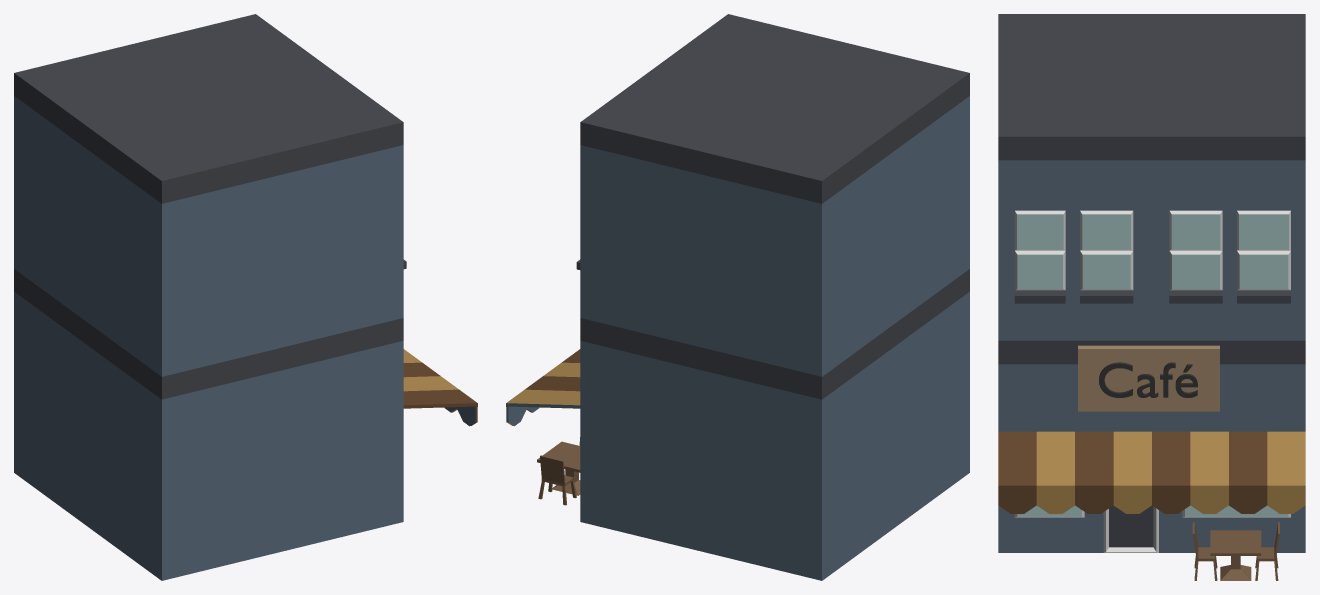
File: CAFE_REDUCED.fbx
The picture shows the model from 3 angles, left to right: view 1: azimuth 30°, elevation 25°; view 2: azimuth 150°, elevation 25°; view 3: azimuth 270°, elevation 25°; orthographic projection. The views are drawn at different scales.
Parts seen in each view (by area): view 1: Cafe; view 2: Cafe; view 3: Cafe.
Part boxes in pixels (bbox=[...]): Cafe: bbox=[14, 14, 477, 580]; Cafe: bbox=[506, 14, 969, 580]; Cafe: bbox=[998, 14, 1305, 580].
Bounding box in the file's own units: 353 × 427 × 286.
